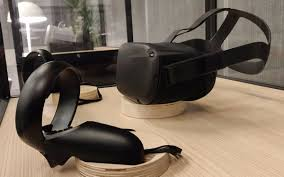oculus: (116, 35, 218, 108)
